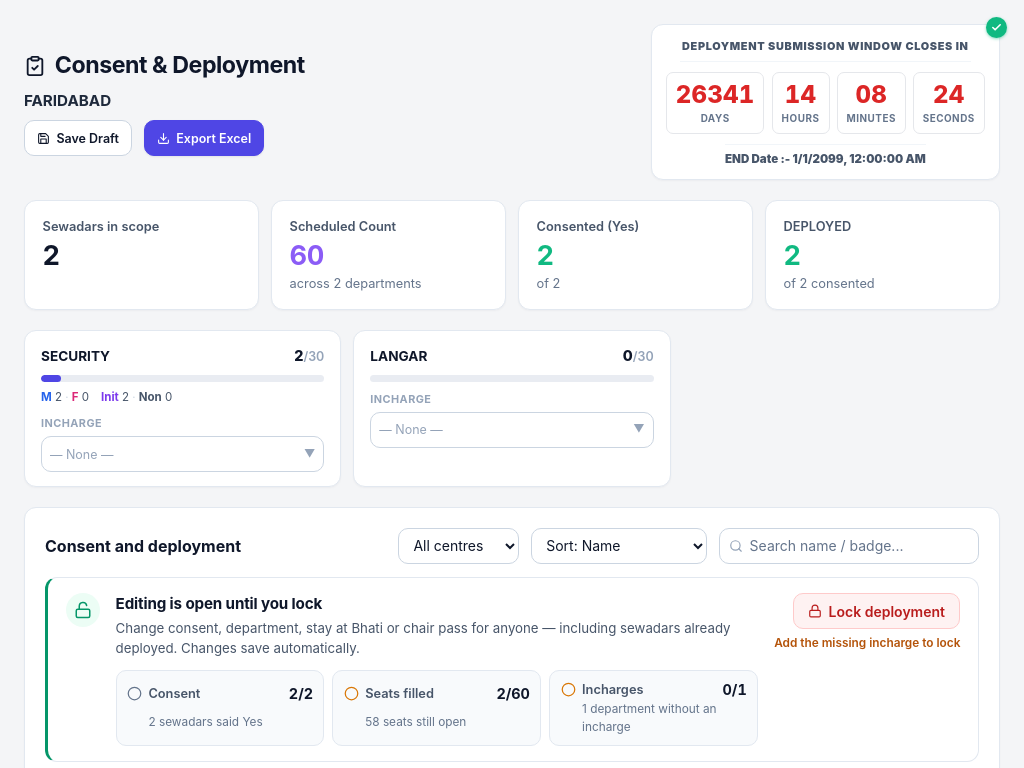
Test: ConsentPage — incharge from a sub-centre › lists both root and sub-centre sewadars as eligible incharges
This screenshot has width=1024, height=768.
Click the 2nd button "— None — ▼" at (82,454), box left=41, top=436, right=324, bottom=472
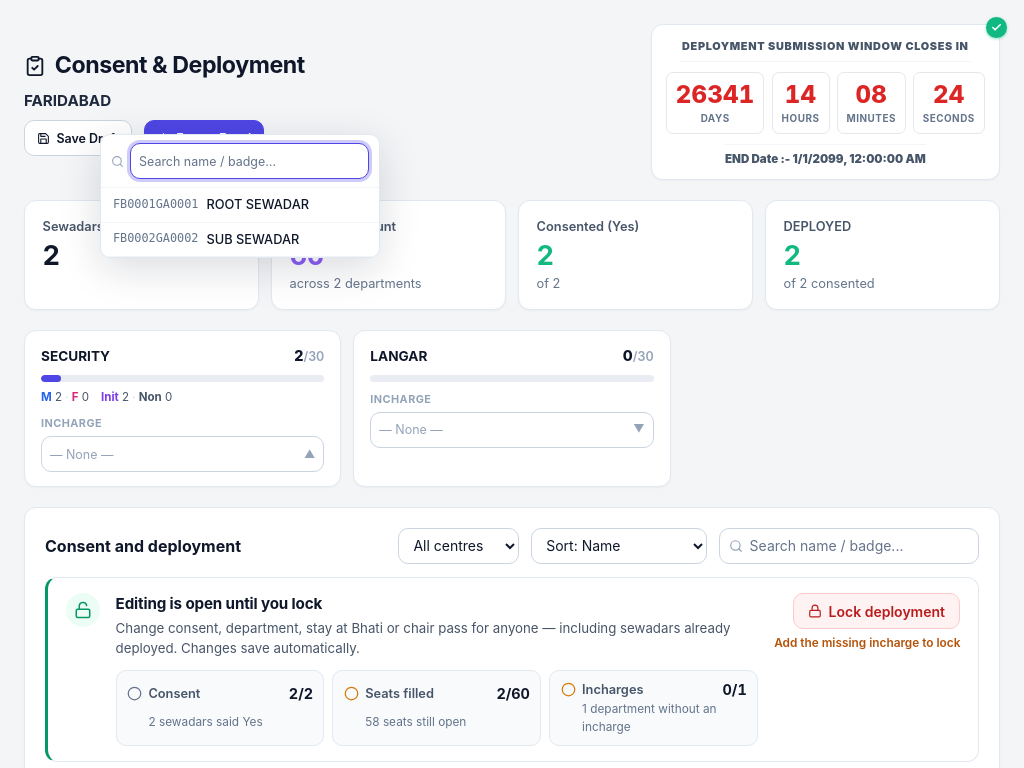
Check: the option "FB0001GA0001 ROOT SEWADAR" is shown, box left=101, top=188, right=379, bottom=223
Check: the option "FB0002GA0002 SUB SEWADAR" is shown, box left=101, top=223, right=379, bottom=257
